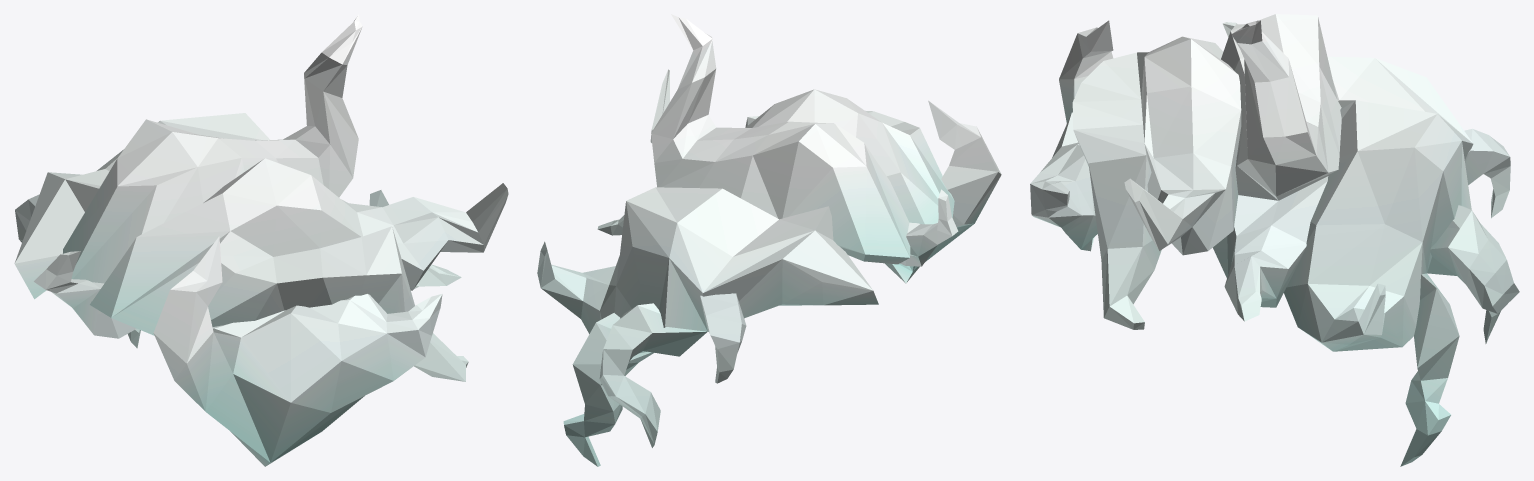
File: CharSkyKid_Hair_AP11Messy_01.glb
3 renders of one model, left to right at view 1: azimuth 30°, elevation 25°; view 2: azimuth 150°, elevation 25°; view 3: azimuth 270°, elevation 25°, orthographic. The views are drawn at different scales.
Parts seen in each view (by area): view 1: CharSkyKid_Hair_AP11Messy_01; view 2: CharSkyKid_Hair_AP11Messy_01; view 3: CharSkyKid_Hair_AP11Messy_01.
Part boxes in pixels (bbox=[...]): CharSkyKid_Hair_AP11Messy_01: bbox=[14, 14, 508, 466]; CharSkyKid_Hair_AP11Messy_01: bbox=[537, 14, 1001, 466]; CharSkyKid_Hair_AP11Messy_01: bbox=[1030, 14, 1519, 466].
Bounding box in the file's own units: 3.1 × 3.3 × 3.3.
Materials: 1 (1 with a texture image).
